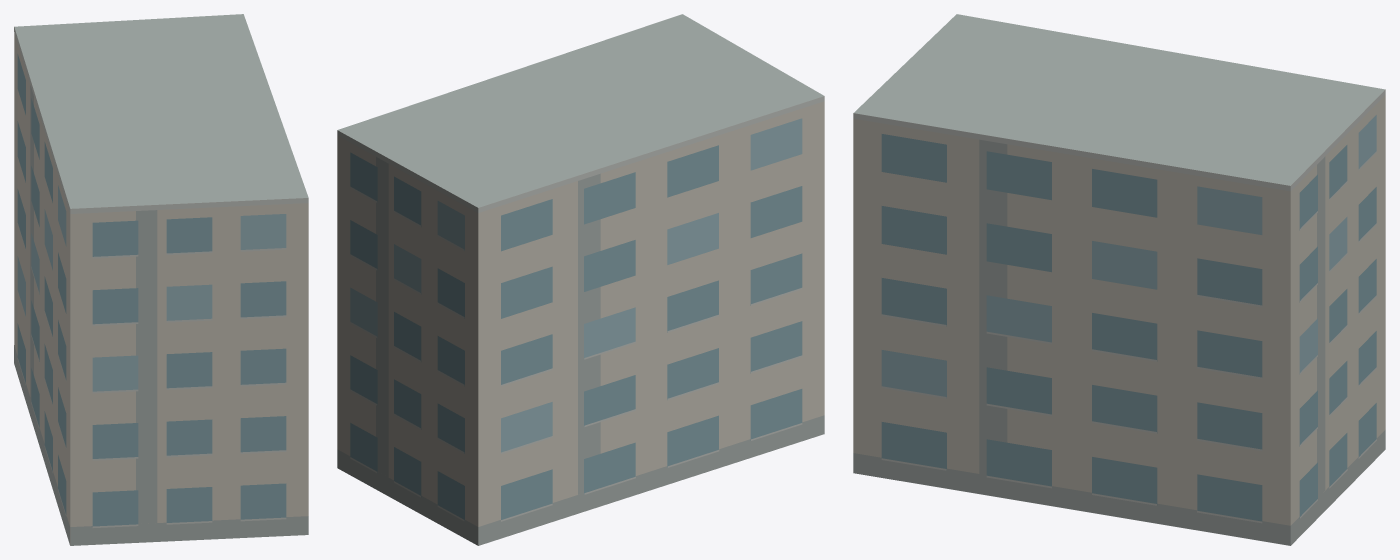
File: survey-upis-32563567.glb
3 views of the same model, side by side, from view 1: azimuth 30°, elevation 25°; view 2: azimuth 150°, elevation 25°; view 3: azimuth 270°, elevation 25° (orthographic). The views are drawn at different scales.
Visible parts, largest first — view 1: survey-upis-32563567.tmp; view 2: survey-upis-32563567.tmp; view 3: survey-upis-32563567.tmp.
Boxes of the visible parts, box(x1,y1,x2,y2) form: survey-upis-32563567.tmp: box(14, 14, 308, 545); survey-upis-32563567.tmp: box(337, 14, 824, 545); survey-upis-32563567.tmp: box(853, 14, 1385, 545).
Bounding box in the file's own units: 16.14 × 15.75 × 21.1.
